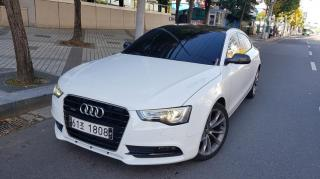0: (98, 126, 103, 136)
1: (88, 123, 93, 133), (76, 120, 79, 128)
6: (72, 118, 76, 128)
8: (92, 125, 98, 134), (104, 127, 108, 137)
plate: (68, 113, 115, 145)
조: (79, 120, 86, 131)
